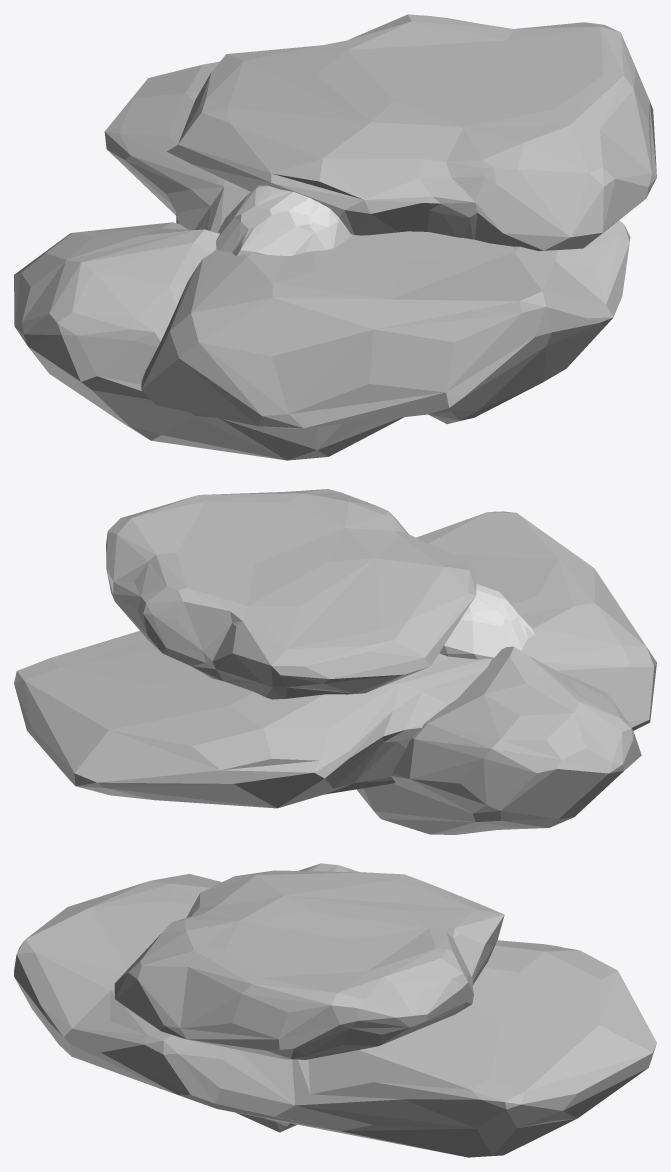
The model's file is Rock_040.glb.
3 views of the same model, one above another, from view 1: azimuth 30°, elevation 25°; view 2: azimuth 150°, elevation 25°; view 3: azimuth 270°, elevation 25° (orthographic). The views are drawn at different scales.
Visible parts, largest first — view 1: Rock_040; view 2: Rock_040; view 3: Rock_040.
Boxes of the visible parts, box(x1,y1,x2,y2) form: Rock_040: box(14, 14, 656, 460); Rock_040: box(14, 489, 656, 834); Rock_040: box(14, 863, 656, 1157).
Bounding box in the file's own units: 3.78 × 1.79 × 4.17.
1 material, 1 textured.
